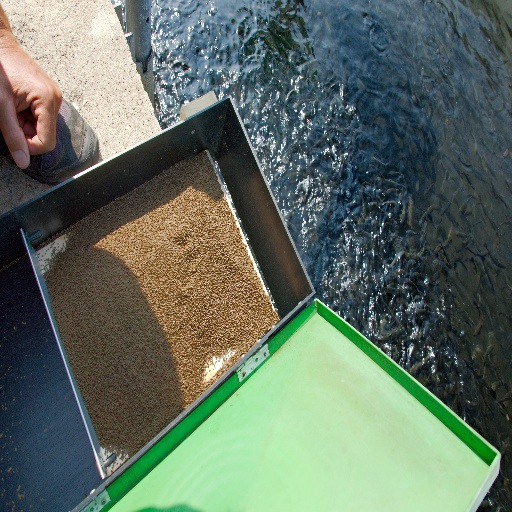hand: (0, 30, 62, 171)
